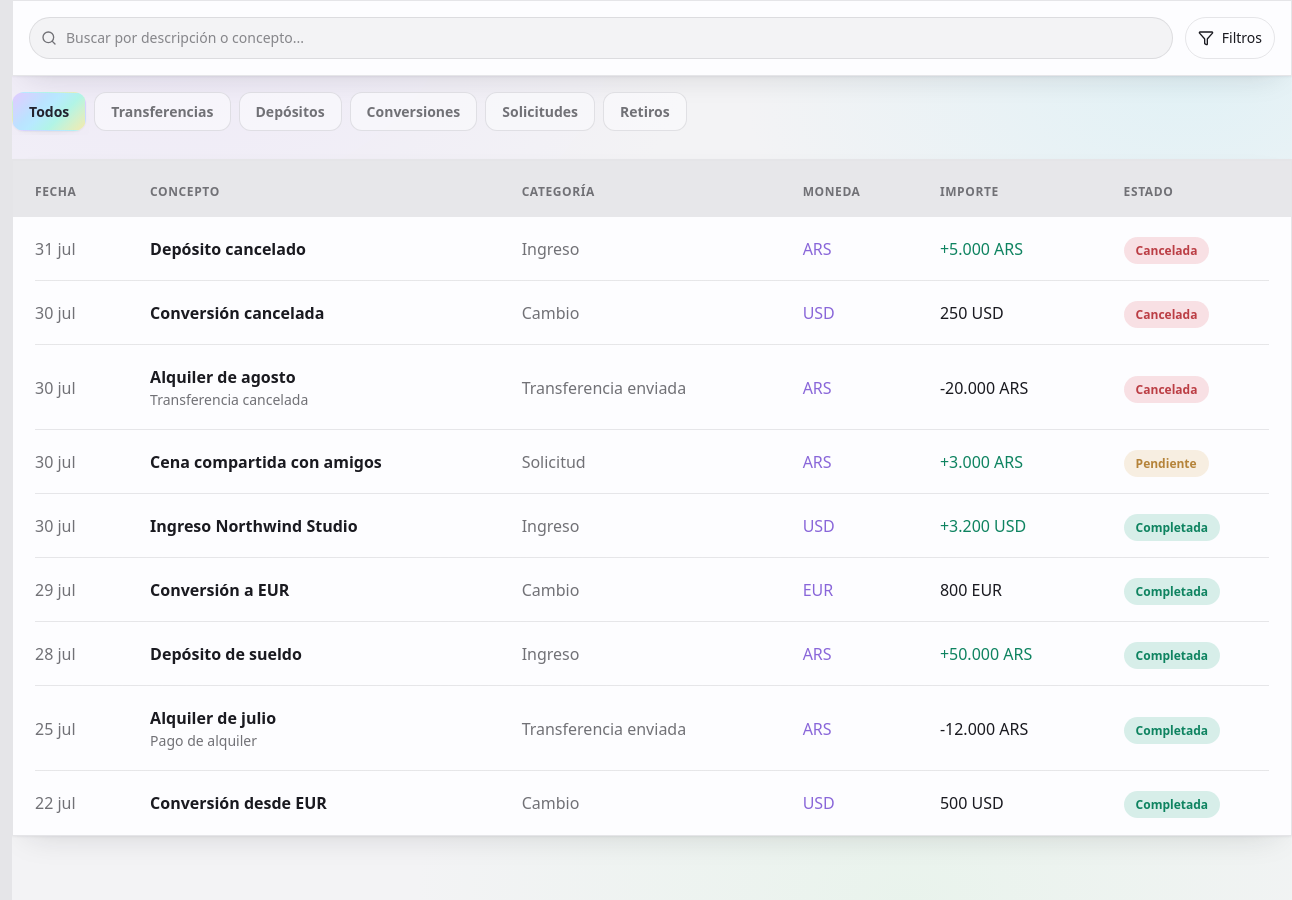
Test: Transactions › muestra la card de Solicitudes de cobro solo al filtrar por Solicitudes
Expected: the text "Depósito de sueldo" is shown, top-left (150, 643), bottom-right (302, 665)
Expected: the text "Solicitudes de cobro" is not shown
Click the button "Solicitudes" at (540, 112), box top-left (485, 92), bottom-right (595, 131)
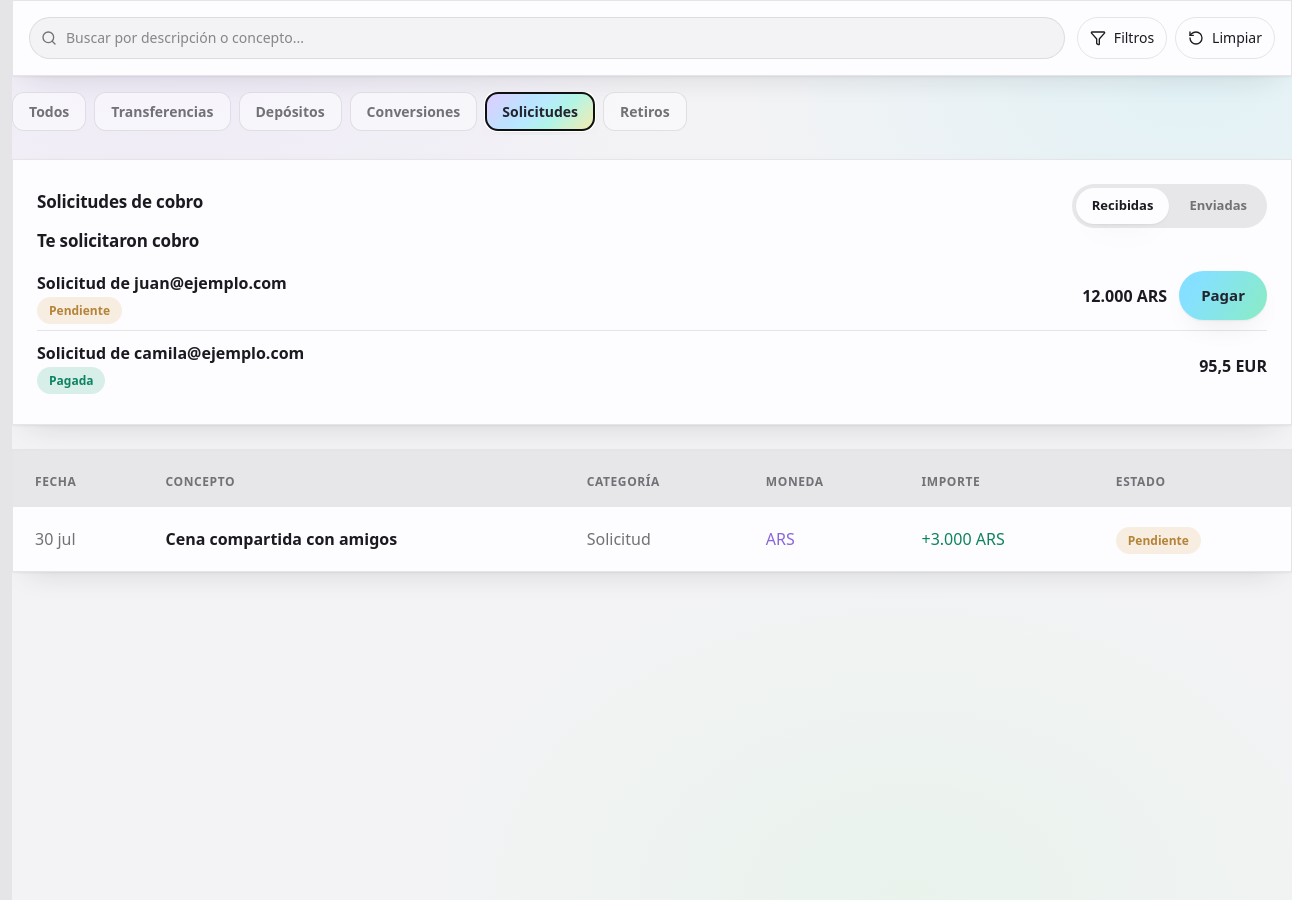
Result: the heading "Solicitudes de cobro" is shown at top-left (37, 189), bottom-right (203, 214)
